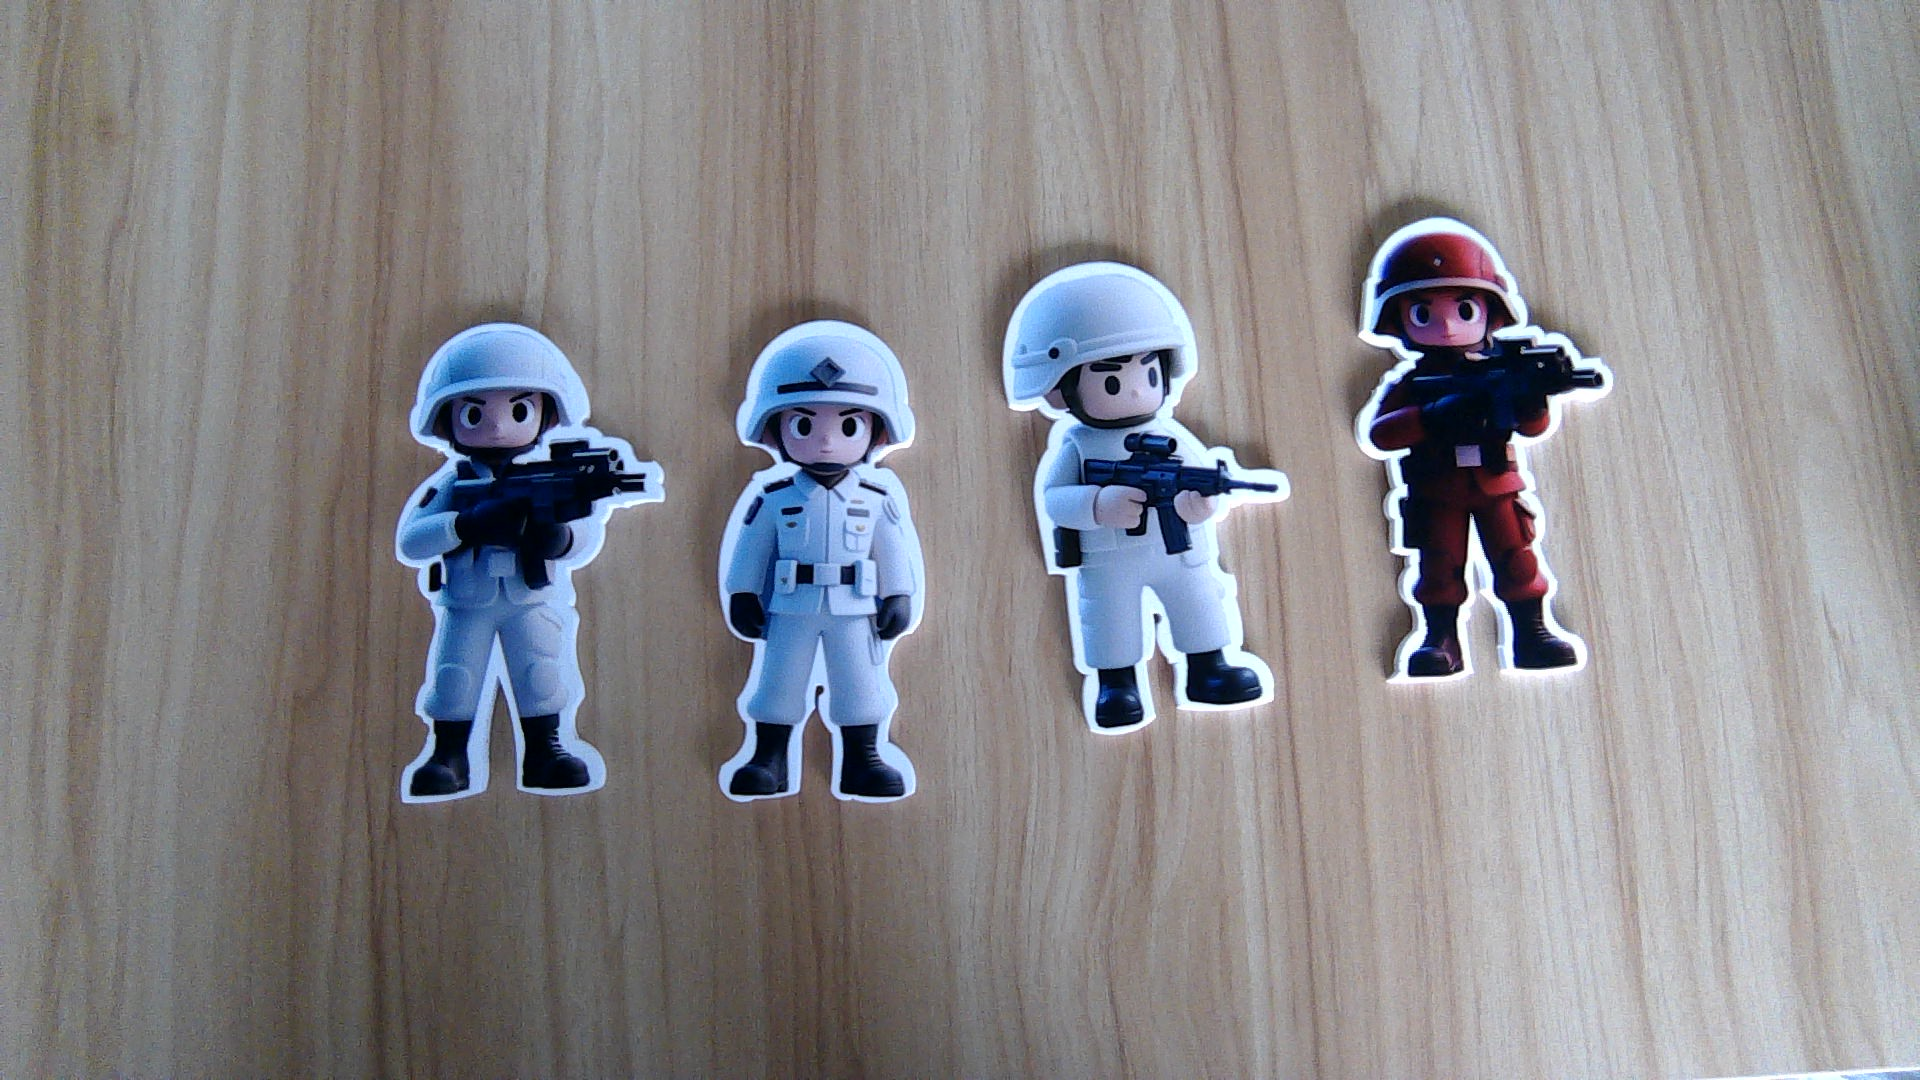人质: (386, 454, 662, 810), (1025, 419, 1292, 735), (713, 459, 928, 807)
敌人1: (1346, 351, 1615, 690)
